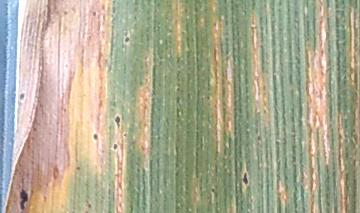tarspot: (16, 184, 30, 211), (16, 88, 29, 105), (113, 112, 124, 131), (240, 169, 250, 188), (110, 140, 120, 154), (121, 34, 133, 45), (91, 130, 101, 143)
